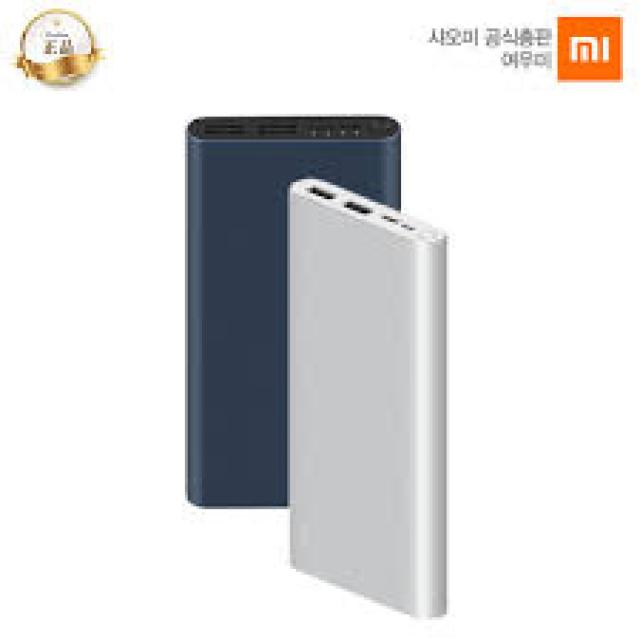power_bank: (181, 114, 406, 515), (290, 178, 450, 621)
